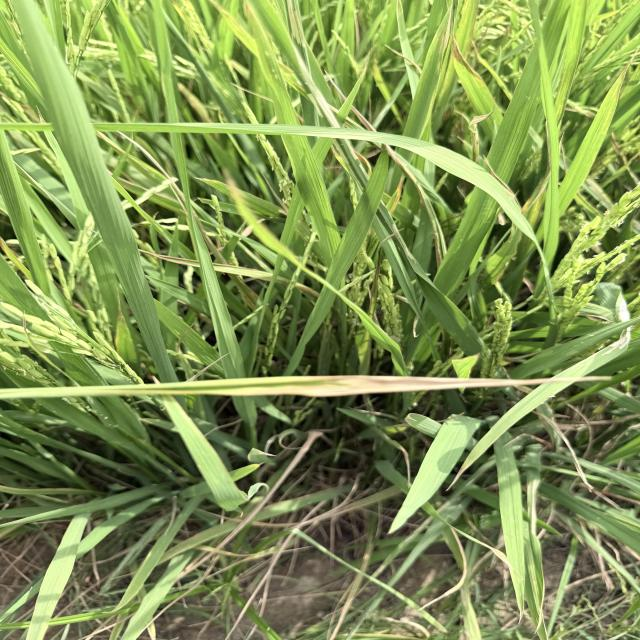Chay bia la: (240, 376, 613, 399)
